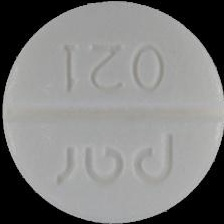61786-622: (0, 0, 224, 224)
